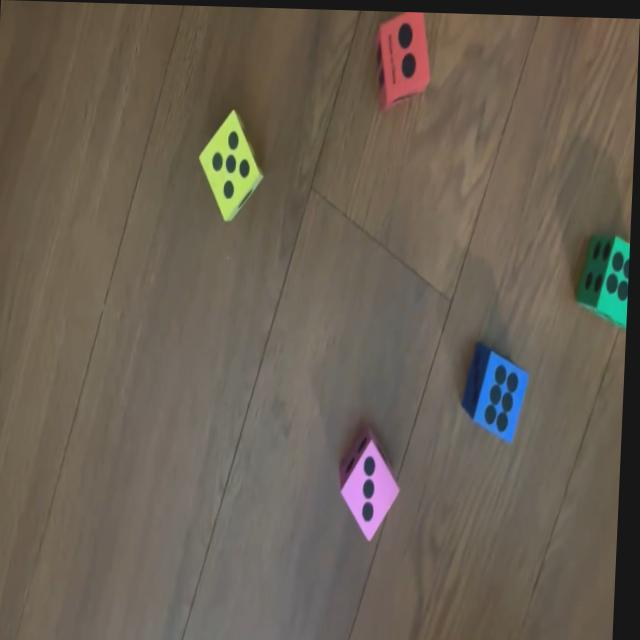cube: (466, 340, 534, 443), (369, 9, 431, 110), (574, 225, 633, 326)
